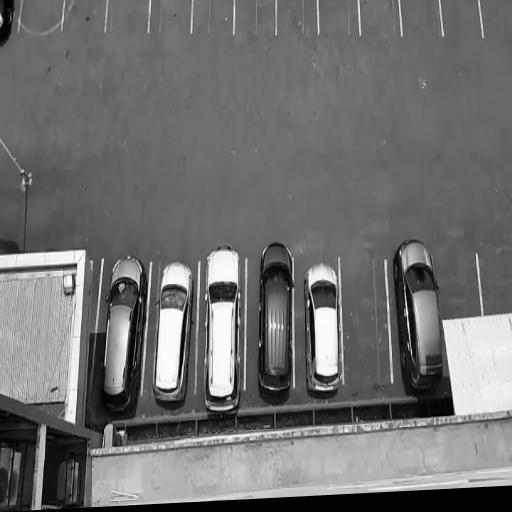Car: (203, 242, 249, 420), (390, 244, 446, 390), (101, 254, 147, 418), (257, 234, 298, 398), (152, 259, 196, 408), (303, 261, 344, 402)
Space Available: (343, 259, 389, 390), (434, 246, 479, 313), (481, 253, 512, 309), (441, 0, 479, 35), (235, 0, 275, 32), (278, 0, 315, 34), (360, 0, 397, 34), (194, 0, 232, 33), (320, 0, 358, 32), (152, 0, 191, 31), (480, 0, 512, 37), (22, 0, 60, 31), (109, 0, 147, 30), (400, 0, 437, 30), (66, 0, 102, 29)
